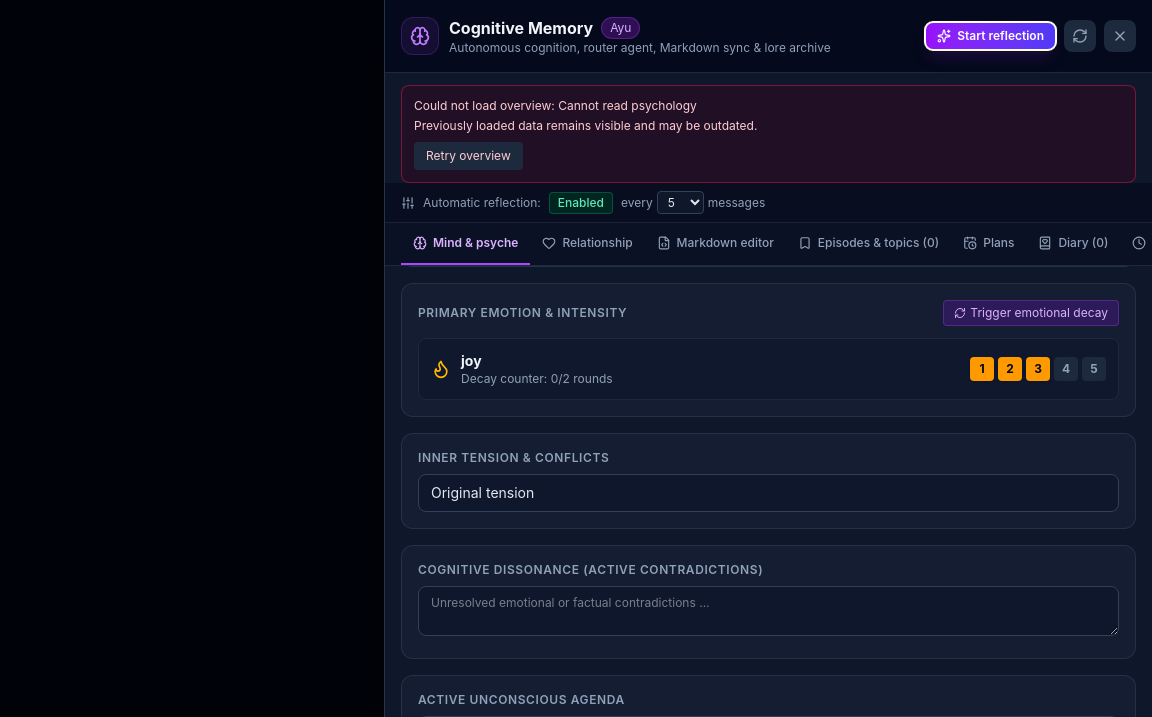
Test: memory read failures › keeps cached overview and drafts, shows a persistent error and clears it on retry
The width and height of the screenshot is (1152, 717).
(page scrolled)
Expected: the message is shown, [401,85,1136,183]
Expected: the message shows "Could not load overview: Cannot read psychology", [414,98,697,113]
Type " edited" into the field named "Inner tension & conflicts" at [768, 493], box [418,474,1119,512]
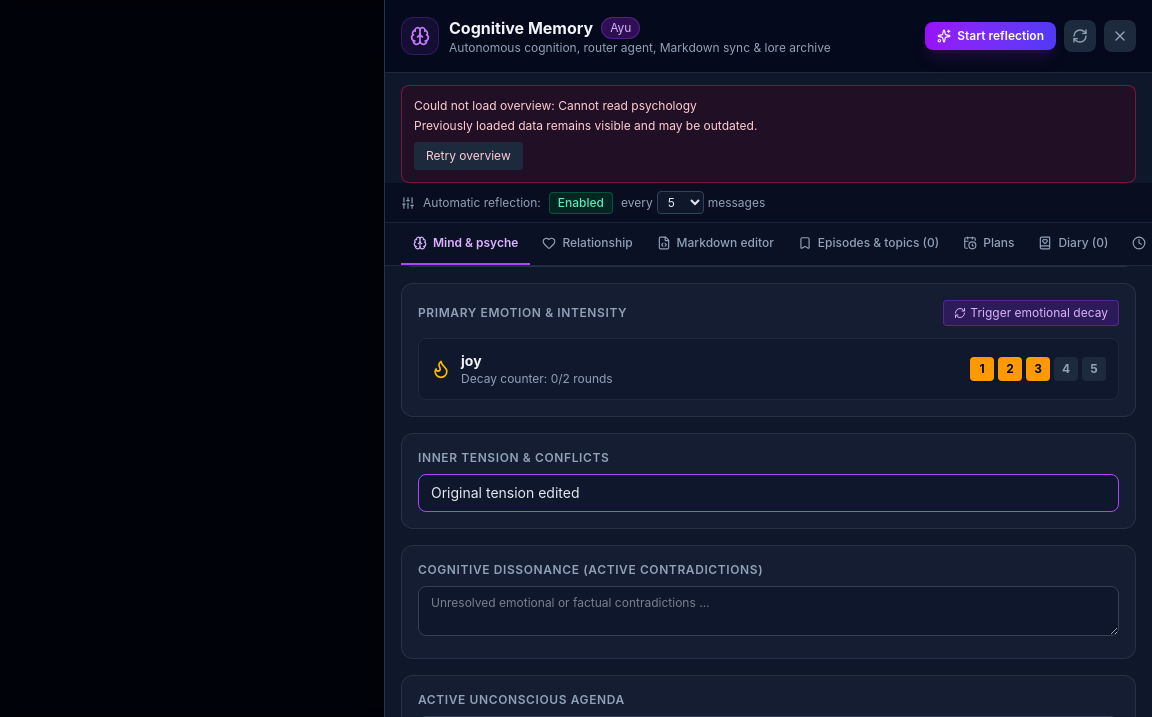
Click the button "Retry overview" at [468, 156], box [414,142,523,170]
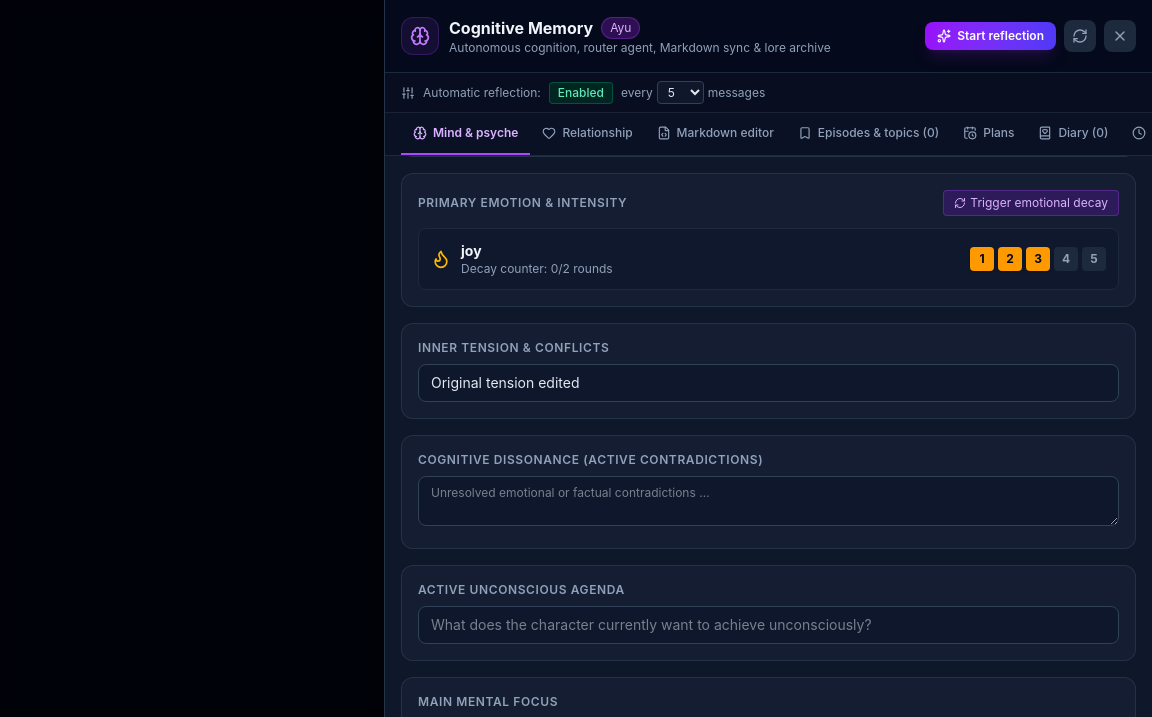
Now the field named "Inner tension & conflicts" holds "Original tension edited", box [418,364,1119,402]
Now the message is gone
